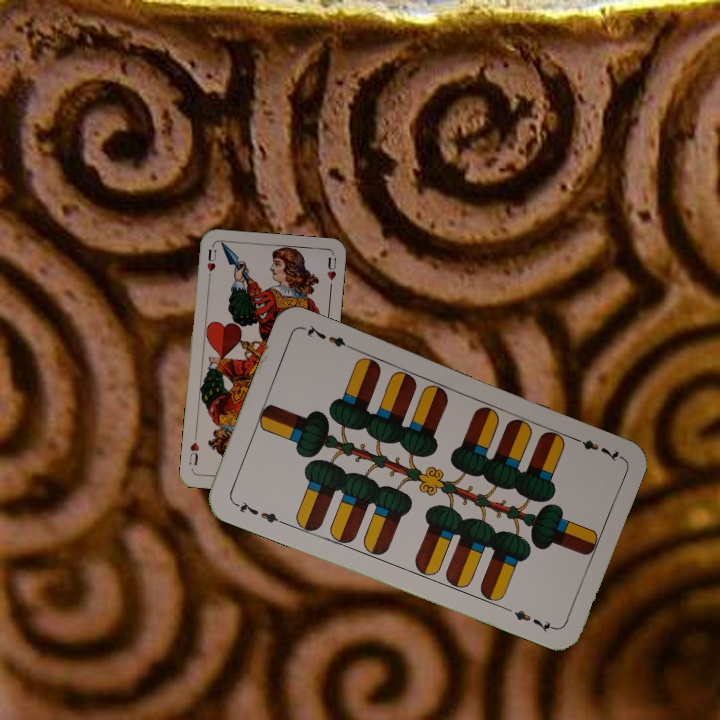E7: (567, 432, 623, 464), (230, 497, 286, 527)
HU: (203, 245, 219, 283)
